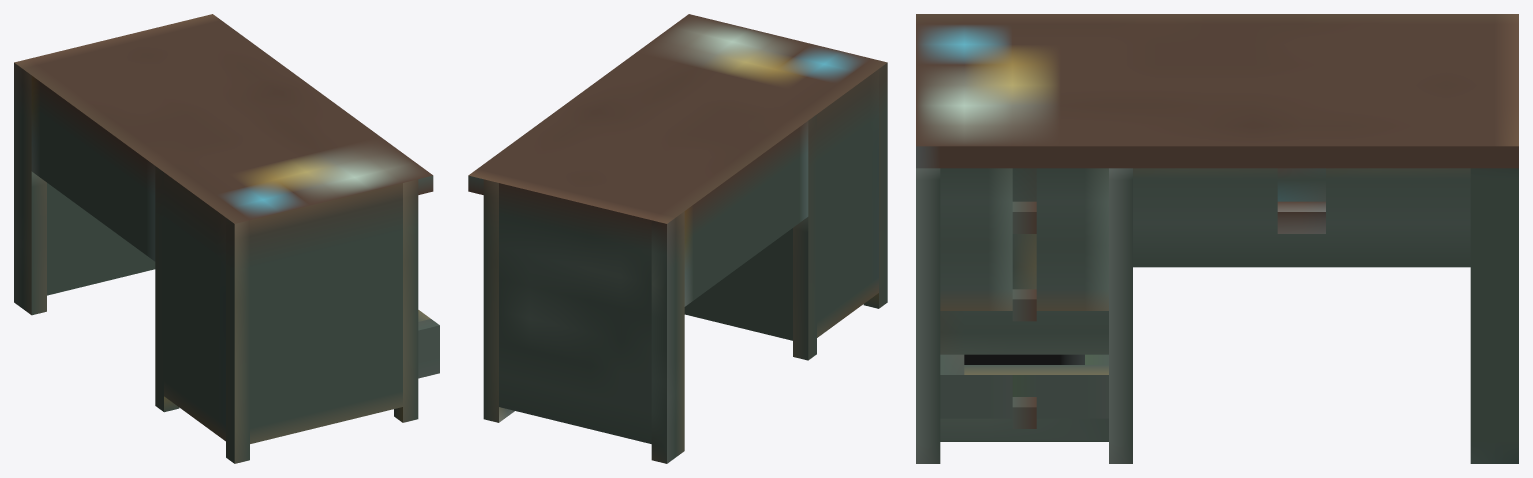
File: OfficeDeskDarker_00.obj
3 views of the same model, side by side, from view 1: azimuth 30°, elevation 25°; view 2: azimuth 150°, elevation 25°; view 3: azimuth 270°, elevation 25° (orthographic). The views are drawn at different scales.
Parts seen in each view (by area): view 1: OfficeDeskDarker_00; view 2: OfficeDeskDarker_00; view 3: OfficeDeskDarker_00.
Boxes of the visible parts, bbox=[...] form: OfficeDeskDarker_00: bbox=[14, 14, 439, 463]; OfficeDeskDarker_00: bbox=[468, 14, 887, 463]; OfficeDeskDarker_00: bbox=[916, 14, 1518, 463].
Size of the model in its own units: 0.75 by 0.75 by 1.25.
